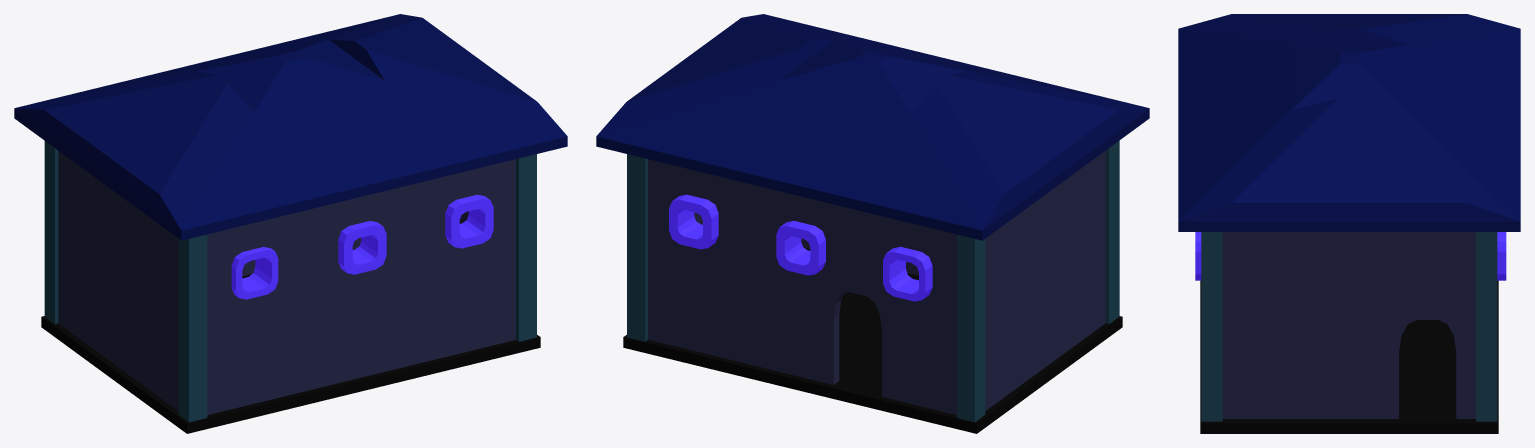
The model's file is rough buildings.fbx.
3 views of the same model, side by side, from view 1: azimuth 30°, elevation 25°; view 2: azimuth 150°, elevation 25°; view 3: azimuth 270°, elevation 25° (orthographic). The views are drawn at different scales.
Parts seen in each view (by area): view 1: Cube.001, Cube.005, Cube.007, Cube.002, Cube.006; view 2: Cube.005, Cube.001, Cube.007, Cube.002, Cube.006; view 3: Cube.005, Cube.001, Cube.002, Cube.007, Cube.006.
Boxes of the visible parts, <box> form: Cube.001: <box>58,151,515,414</box>; Cube.005: <box>14,14,567,240</box>; Cube.007: <box>44,141,536,422</box>; Cube.002: <box>41,249,540,433</box>; Cube.006: <box>231,194,493,299</box>; Cube.005: <box>596,14,1149,240</box>; Cube.001: <box>648,151,1105,414</box>; Cube.007: <box>627,140,1119,422</box>; Cube.002: <box>623,247,1122,433</box>; Cube.006: <box>669,194,932,301</box>; Cube.005: <box>1178,14,1520,231</box>; Cube.001: <box>1222,232,1475,418</box>; Cube.002: <box>1200,280,1498,433</box>; Cube.007: <box>1201,232,1497,421</box>; Cube.006: <box>1195,232,1506,280</box>.
Bounding box in the file's own units: 800 × 556 × 600.
